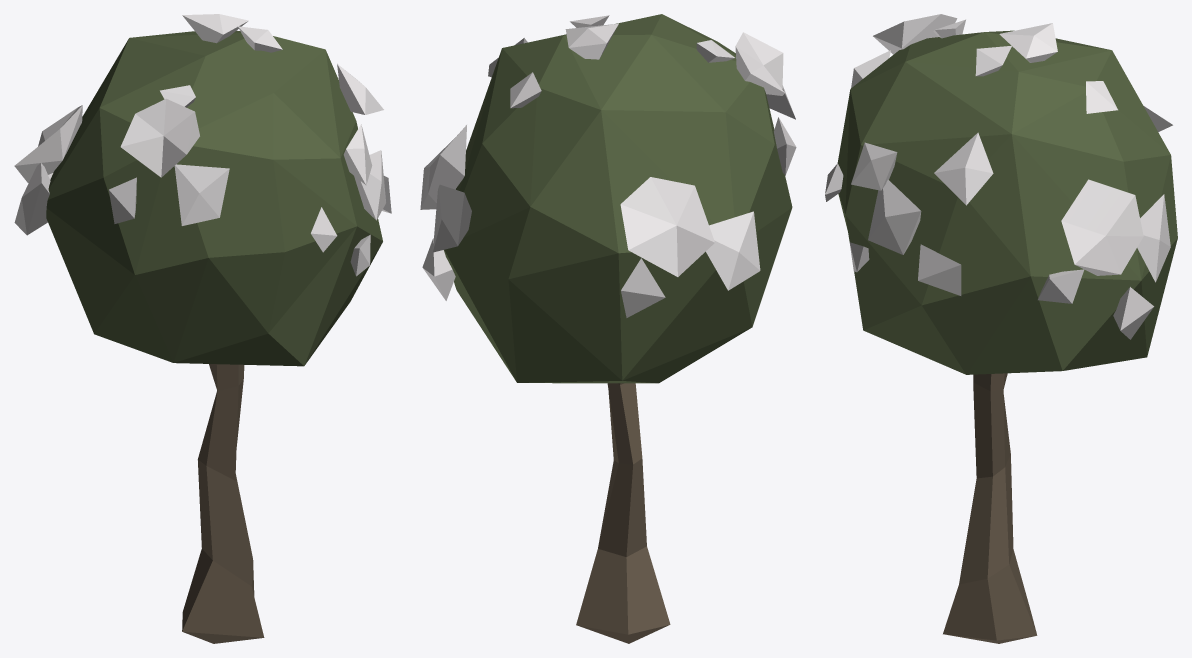
Rendered from env_bush_flowers.gltf.
3 renders of one model, left to right at view 1: azimuth 30°, elevation 25°; view 2: azimuth 150°, elevation 25°; view 3: azimuth 270°, elevation 25°, orthographic.
Parts seen in each view (by area): view 1: env_bush_flowers; view 2: env_bush_flowers; view 3: env_bush_flowers.
Part boxes in pixels (<box>): env_bush_flowers: <box>14,14,391,643</box>; env_bush_flowers: <box>420,14,796,643</box>; env_bush_flowers: <box>825,14,1177,643</box>.
Bounding box in the file's own units: 0.865 × 1.57 × 0.8109.
1 material, 1 textured.
